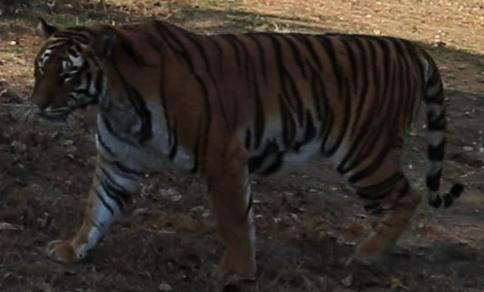tiger: (32, 20, 460, 291)
